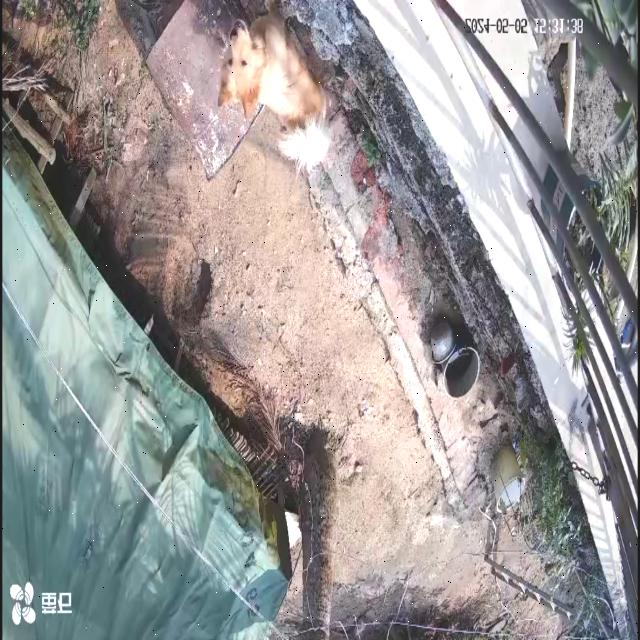dog: (218, 3, 332, 180)
